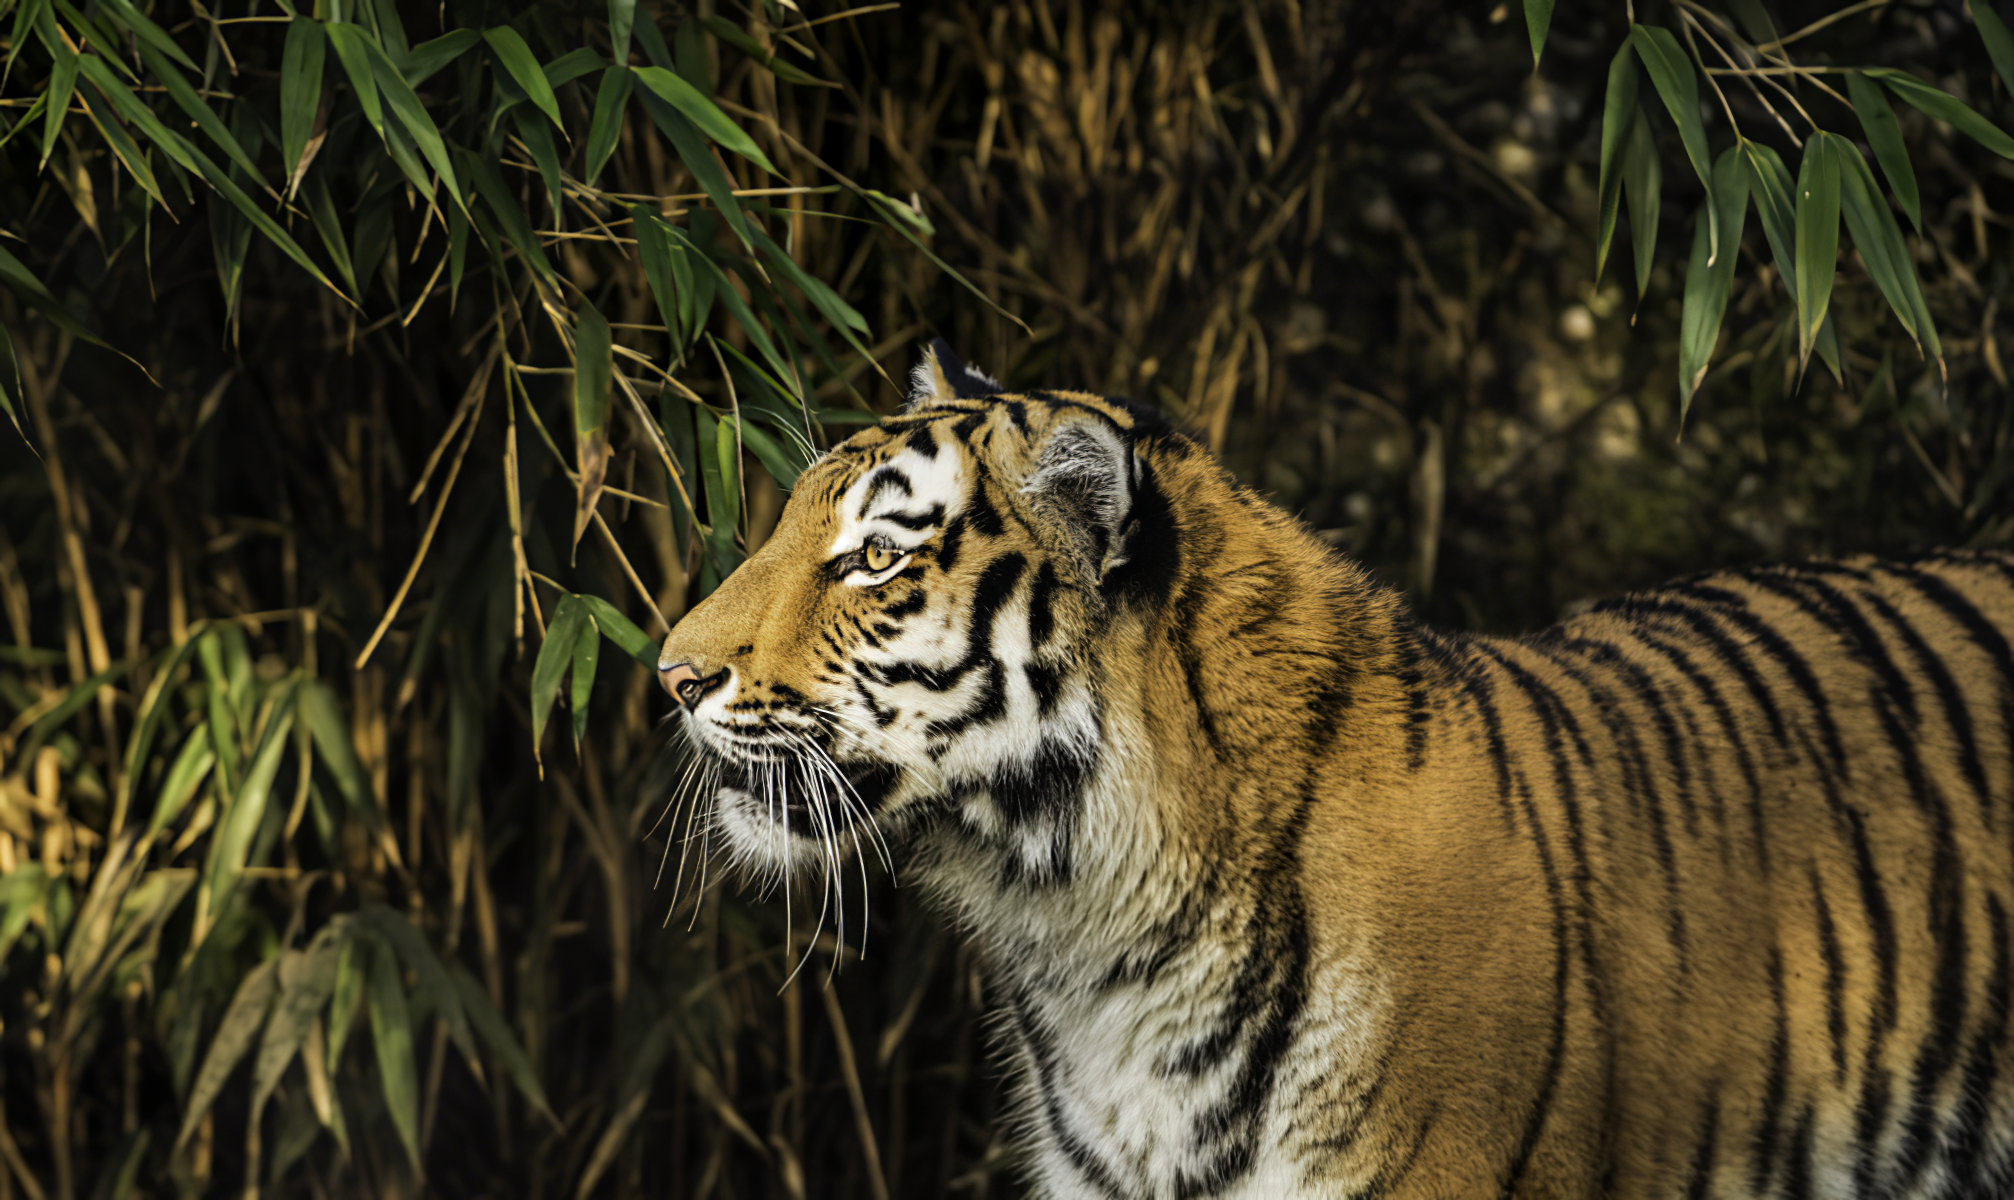tiger: (566, 316, 1974, 1200)
